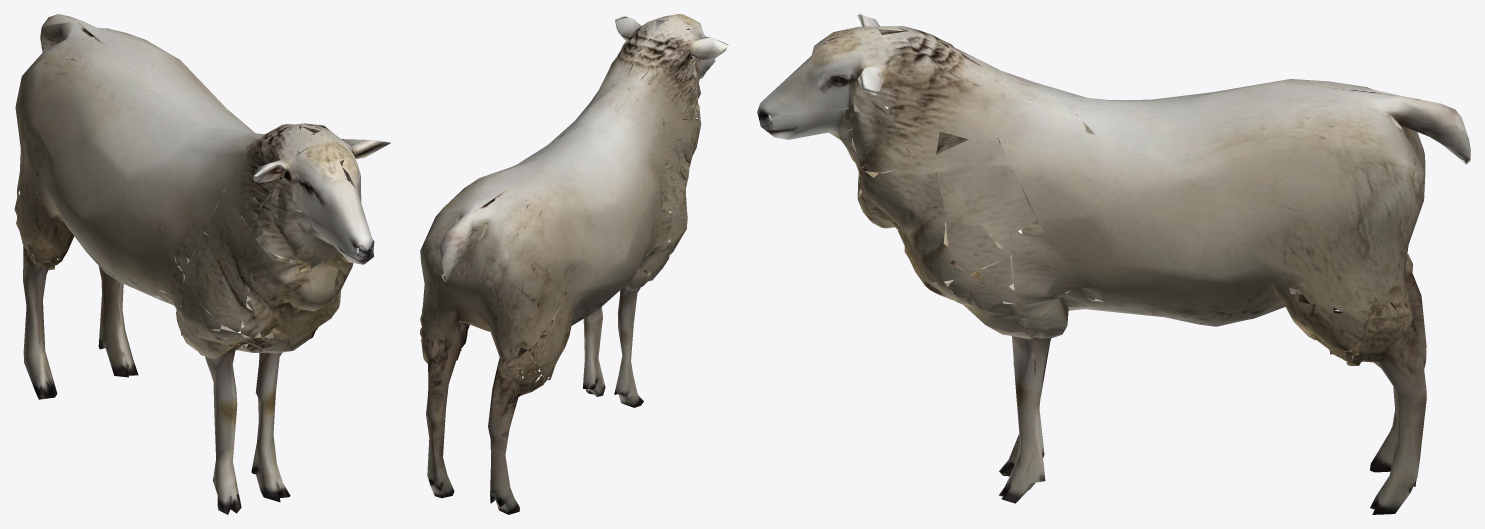
The model's file is schaf.glb.
3 renders of one model, left to right at view 1: azimuth 30°, elevation 25°; view 2: azimuth 150°, elevation 25°; view 3: azimuth 270°, elevation 25°, orthographic. The views are drawn at different scales.
Size of the model in its own units: 0.6251 by 1.35 by 1.89.
Materials: 1 (1 with a texture image).
